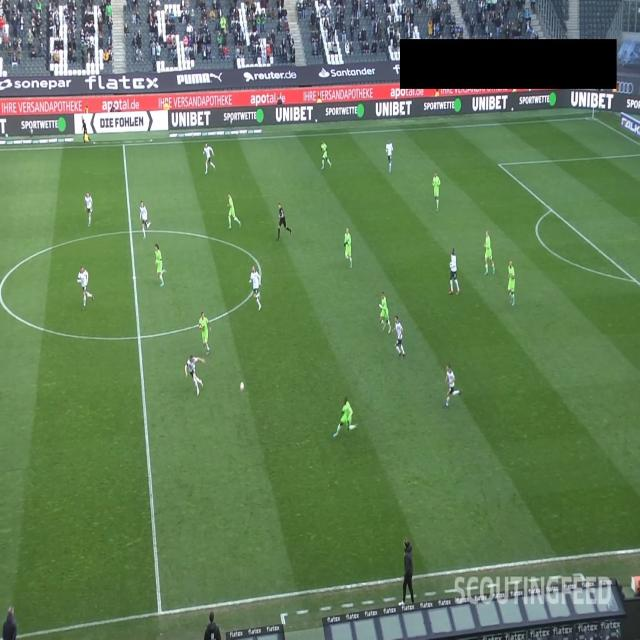ball: (239, 381, 245, 394)
